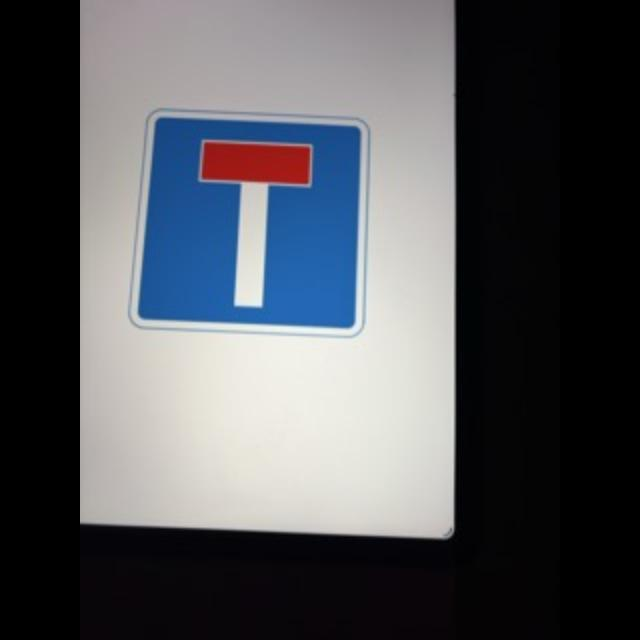DEAD END: (129, 105, 367, 332)
